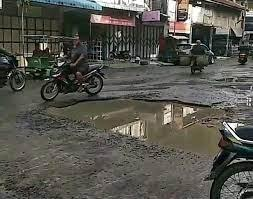Pothole: (26, 73, 242, 175)
